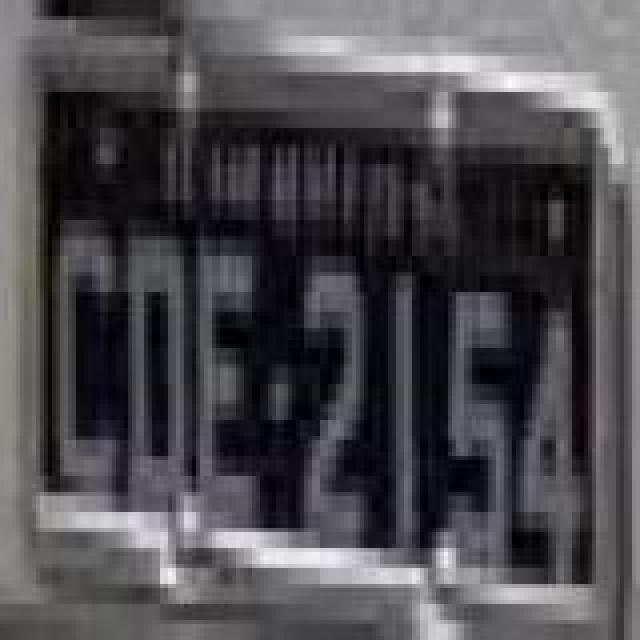1: (388, 274, 420, 550)
2: (300, 256, 372, 544)
4: (516, 304, 588, 592)
5: (444, 280, 508, 568)
C: (54, 222, 122, 498)
D: (128, 232, 192, 520)
E: (192, 236, 256, 532)
